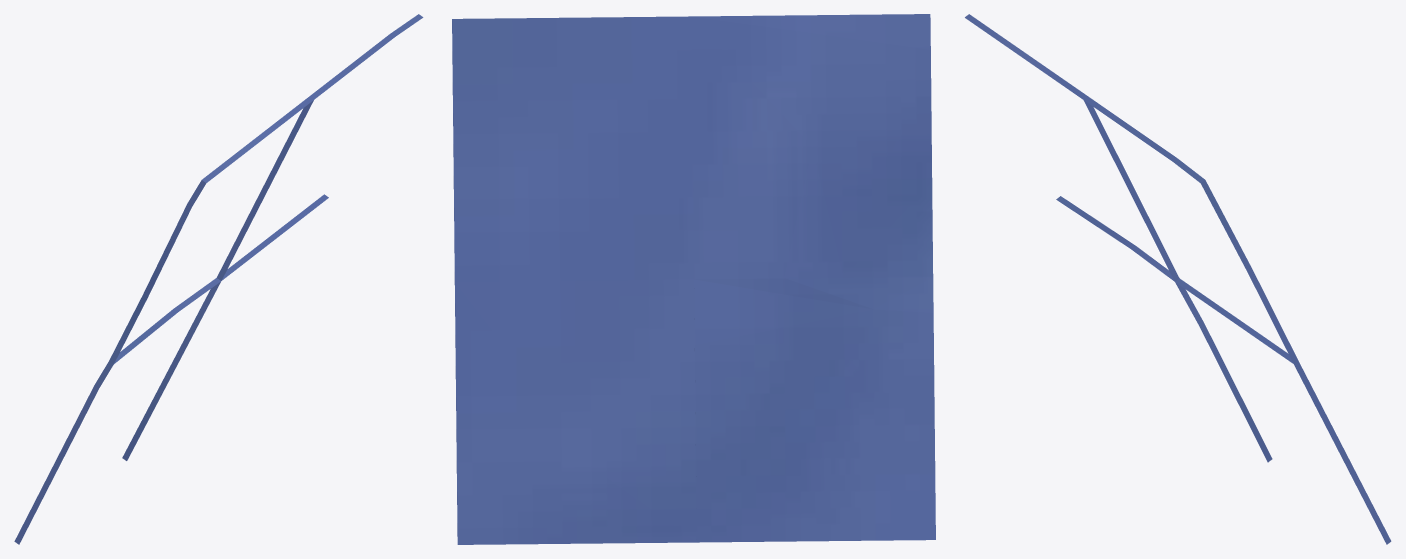
3 renders of one model, left to right at view 1: azimuth 30°, elevation 25°; view 2: azimuth 150°, elevation 25°; view 3: azimuth 270°, elevation 25°, orthographic. The views are drawn at different scales.
Bounding box in the file's own units: 4917 × 4426 × 4150.
1 material, 1 textured.
